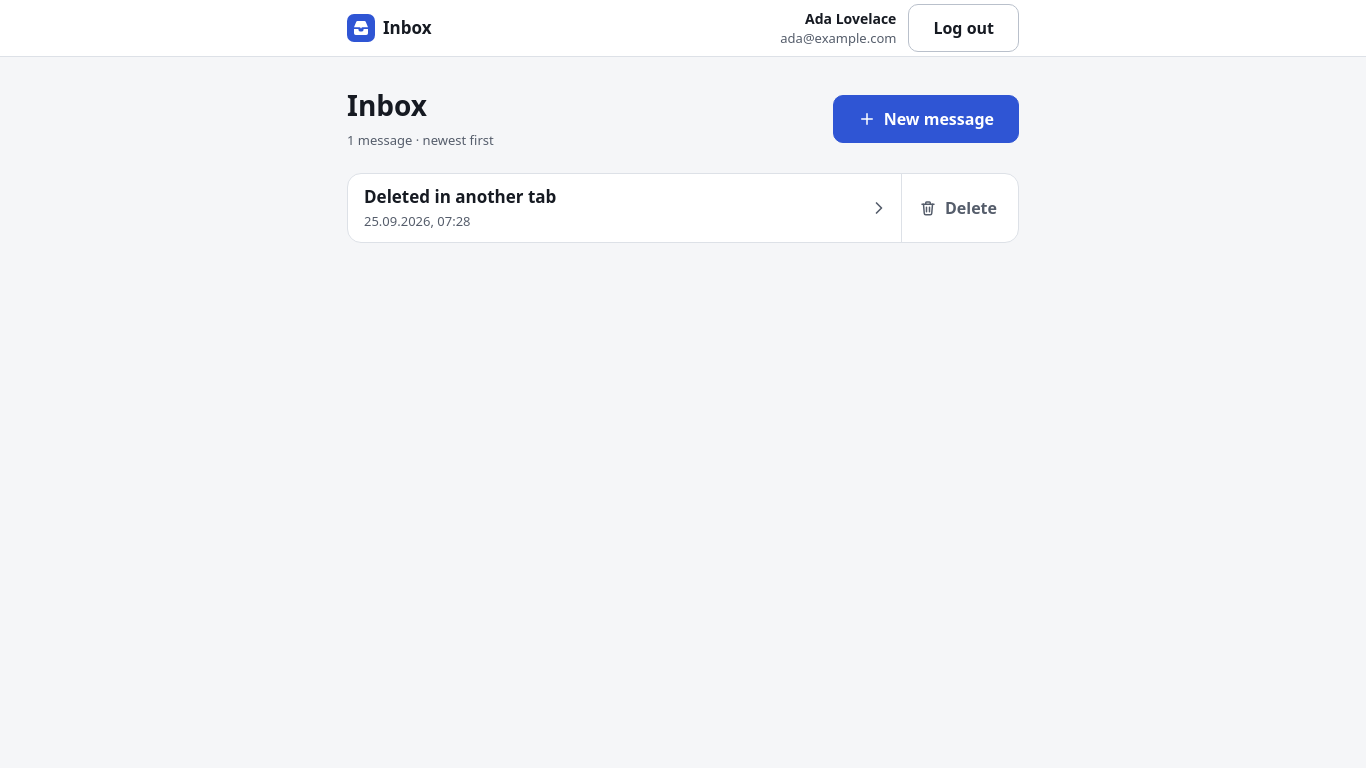
message deleted elsewhere › treats a delete of an already-deleted message as done
Click the button with aria-label "Delete message: Deleted in another tab": (958, 208) [906,184,1010,232]
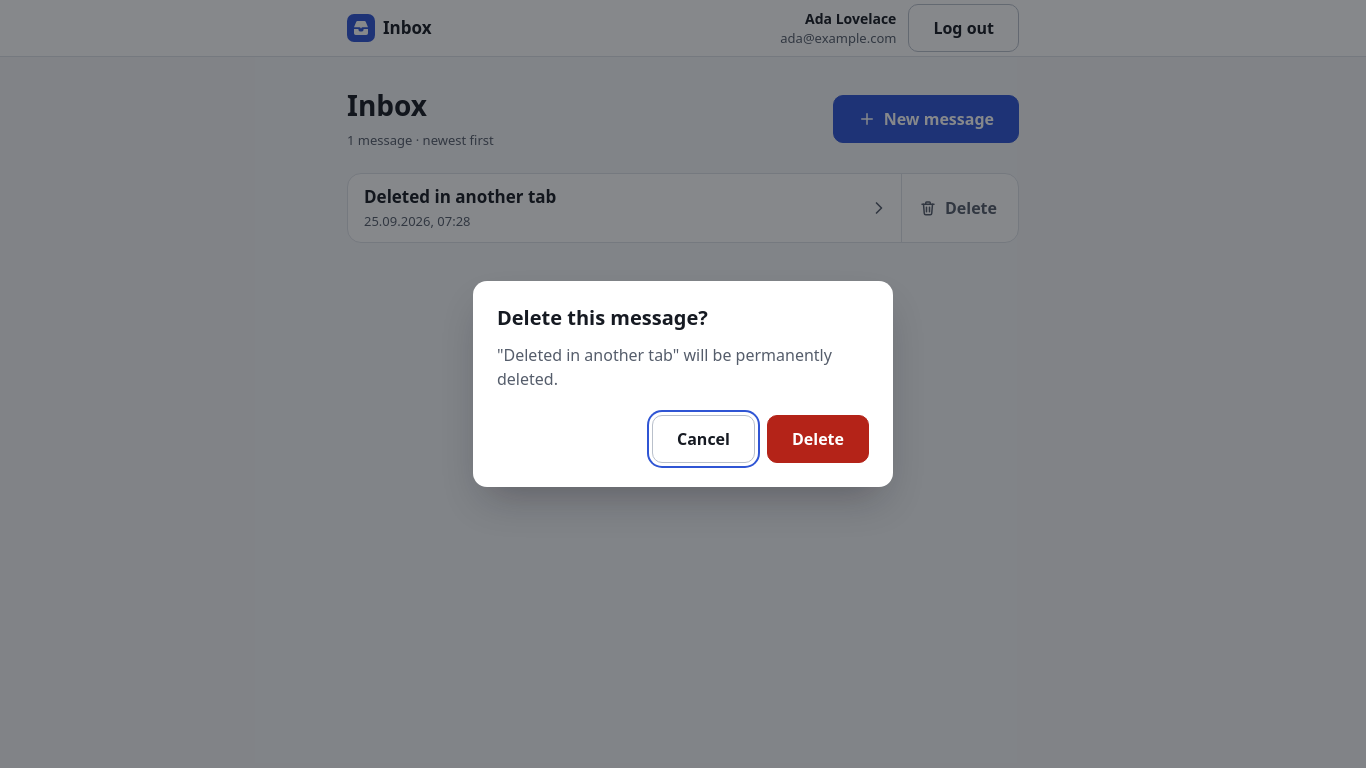
Click the button "Delete": (818, 439) [767,415,869,463]
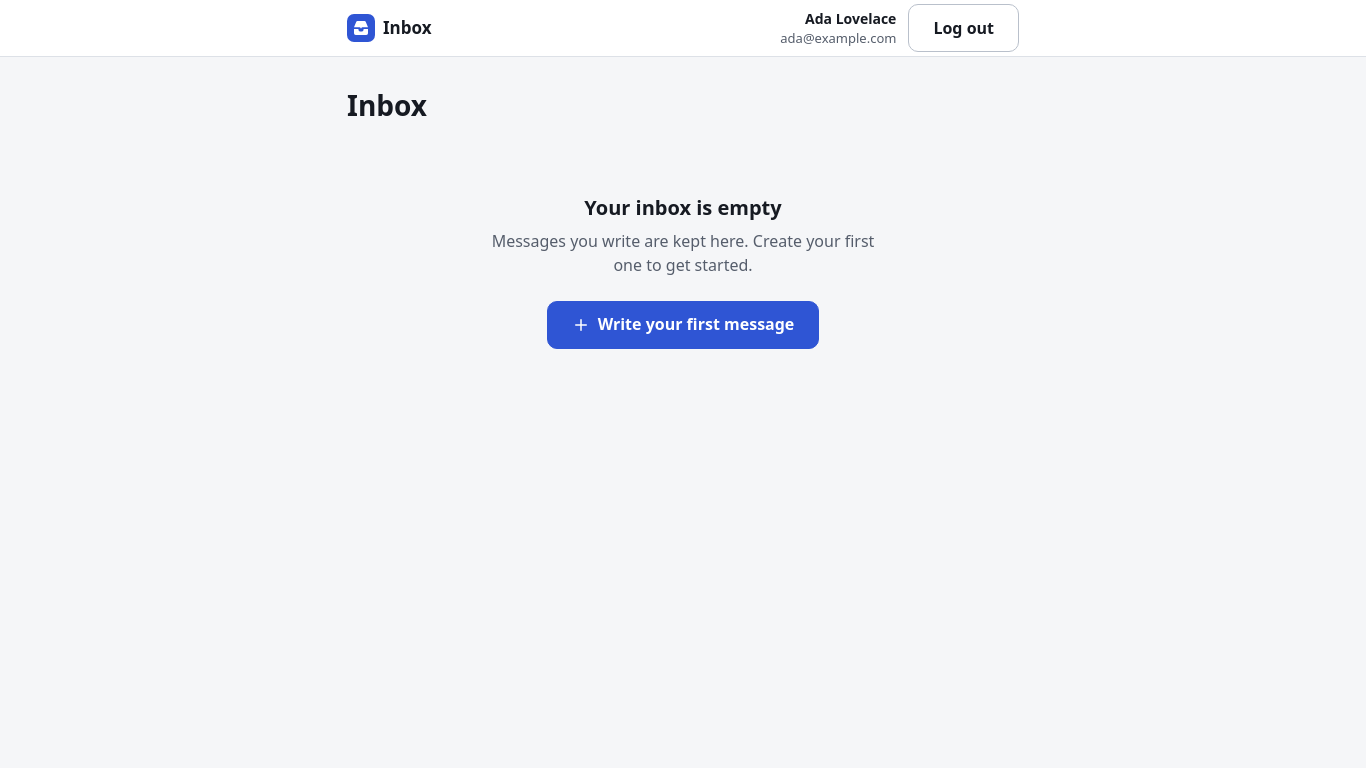
expect the heading "Your inbox is empty" is shown: met, box [584,194,782,221]
